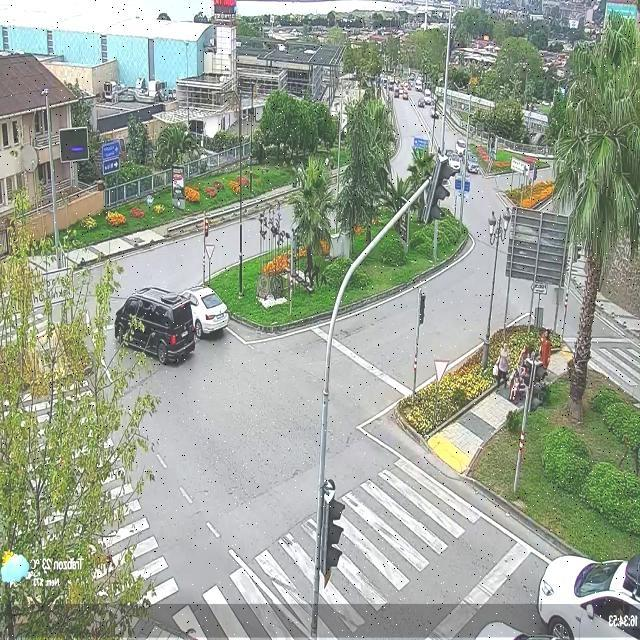Car: (525, 544, 640, 630), (112, 289, 190, 360), (171, 278, 233, 342)
